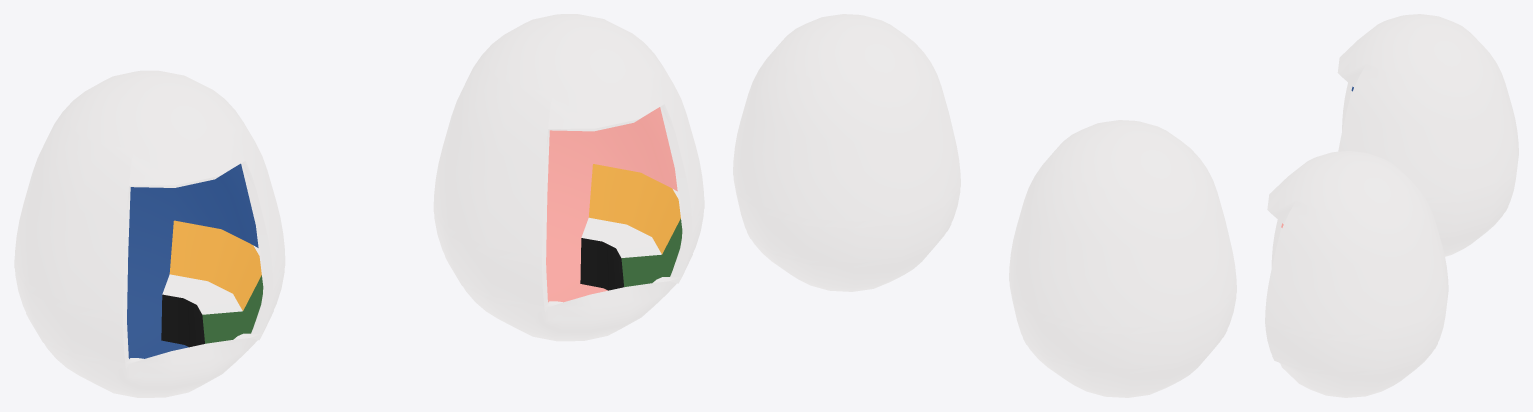
File: 中关村带贴图 1.fbx
3 renders of one model, left to right at view 1: azimuth 30°, elevation 25°; view 2: azimuth 150°, elevation 25°; view 3: azimuth 270°, elevation 25°, orthographic. The views are drawn at different scales.
Visible parts, largest first — view 1: 球体_1, 球体; view 2: 球体_1, 球体; view 3: 球体_1, 球体.
Boxes of the visible parts, left/top/right/bottom form: 球体_1: left=433, top=14, right=704, bottom=341; 球体: left=14, top=70, right=285, bottom=397; 球体_1: left=733, top=14, right=960, bottom=291; 球体: left=1009, top=120, right=1236, bottom=397; 球体_1: left=1265, top=151, right=1448, bottom=397; 球体: left=1337, top=14, right=1518, bottom=256.
Bounding box in the file's own units: 475 × 222 × 228.
